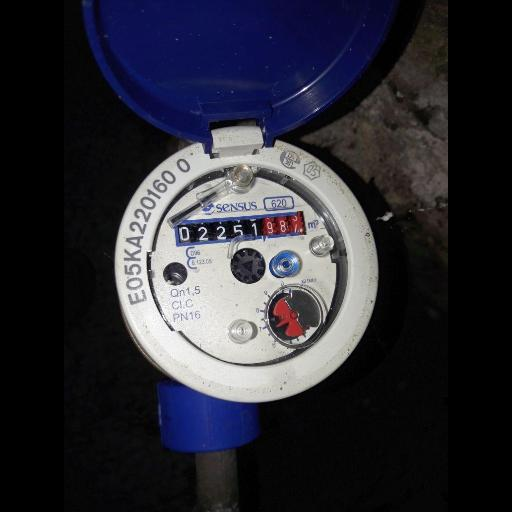0: (177, 223, 193, 243)
1: (247, 218, 264, 239)
2: (195, 221, 212, 243), (213, 220, 230, 242)
3: (288, 210, 304, 236)
5: (229, 219, 247, 240)
8: (276, 216, 290, 235)
9: (262, 216, 276, 236)
border_water_meter_number: (173, 208, 307, 247)
